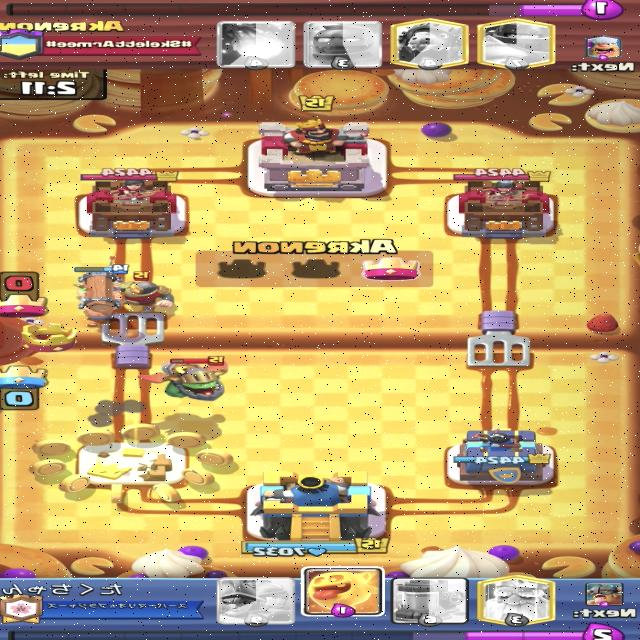Enemy-InfernoDragon: (136, 355, 231, 402)
Enemy-Knight: (104, 271, 178, 314)
Player-BattleRam: (72, 263, 130, 328)
